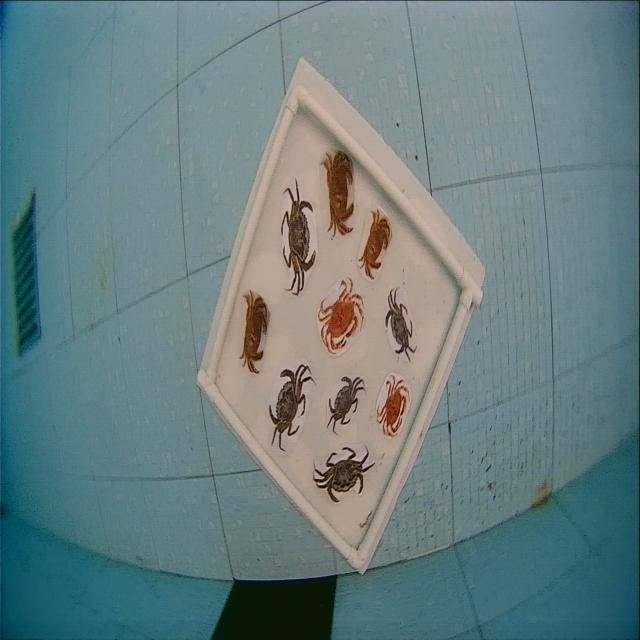GreenCrab: (269, 363, 315, 452), (281, 182, 315, 295), (313, 447, 375, 503), (327, 376, 364, 434), (385, 287, 415, 353)
